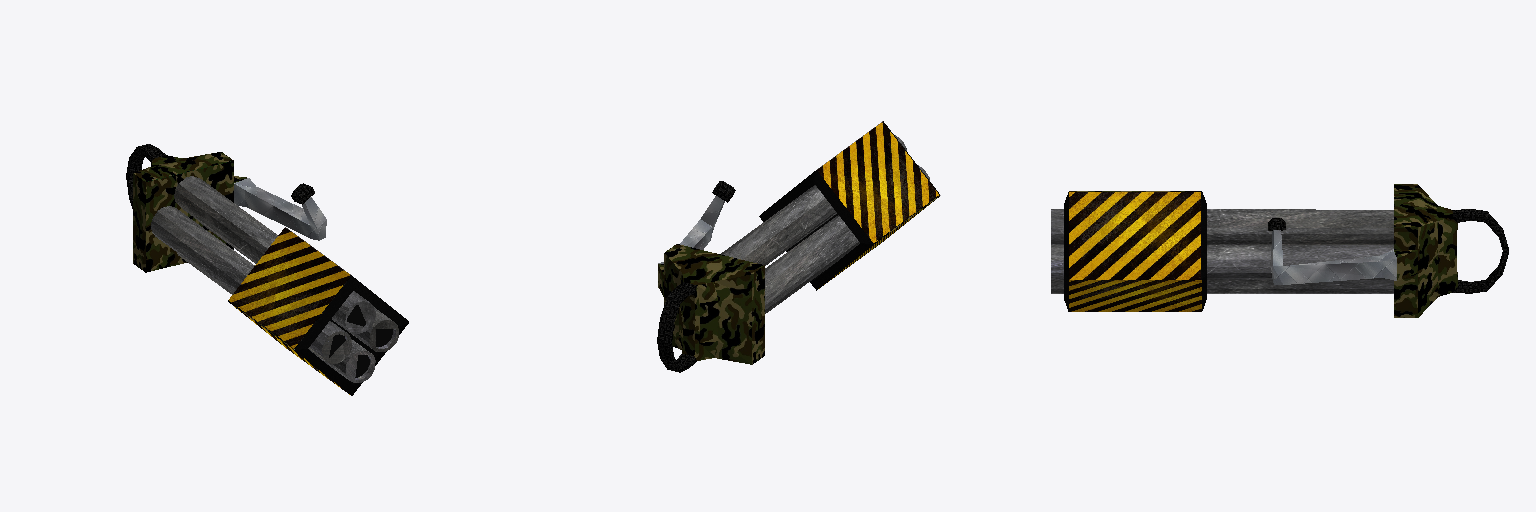
3 views of the same model, side by side, from view 1: azimuth 30°, elevation 25°; view 2: azimuth 150°, elevation 25°; view 3: azimuth 270°, elevation 25° (orthographic).
Parts seen in each view (by area): view 1: Cylinder.001, Cylinder.000_Cylinder.004, Cube; view 2: Cube, Cylinder.000_Cylinder.004, Cylinder.001; view 3: Cylinder.000_Cylinder.004, Cylinder.001, Cube.
Part boxes in pixels (x1,y1,x2,y2): Cylinder.001: (151,176,398,382); Cylinder.000_Cylinder.004: (228,227,408,395); Cube: (126,144,326,272); Cube: (657,181,764,372); Cylinder.000_Cylinder.004: (759,121,940,290); Cylinder.001: (686,135,929,313); Cylinder.000_Cylinder.004: (1064,191,1206,311); Cylinder.001: (1051,209,1393,293); Cube: (1268,184,1508,317).
Size of the model in its own units: 1.75 by 1.51 by 5.15.
Materials: 3 (1 with a texture image).